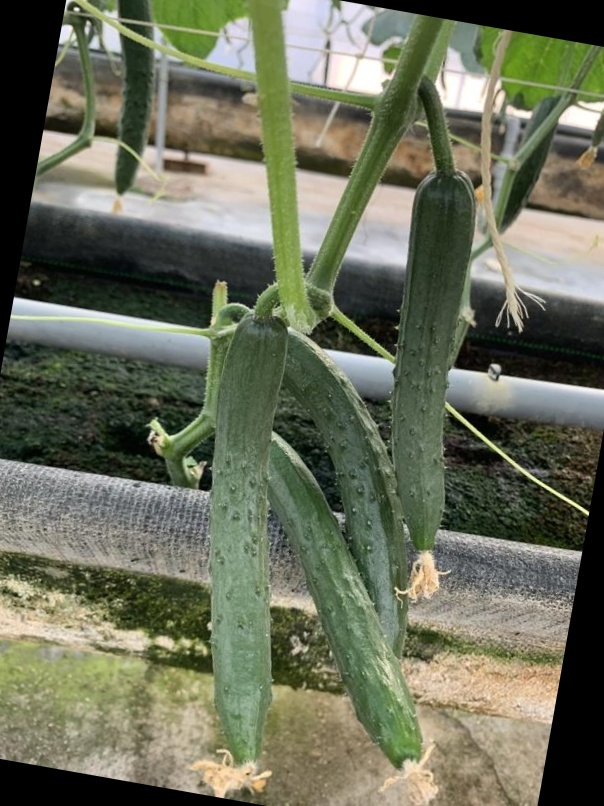mature: (265, 431, 421, 765), (269, 324, 409, 659), (200, 313, 295, 775), (392, 169, 480, 575)
